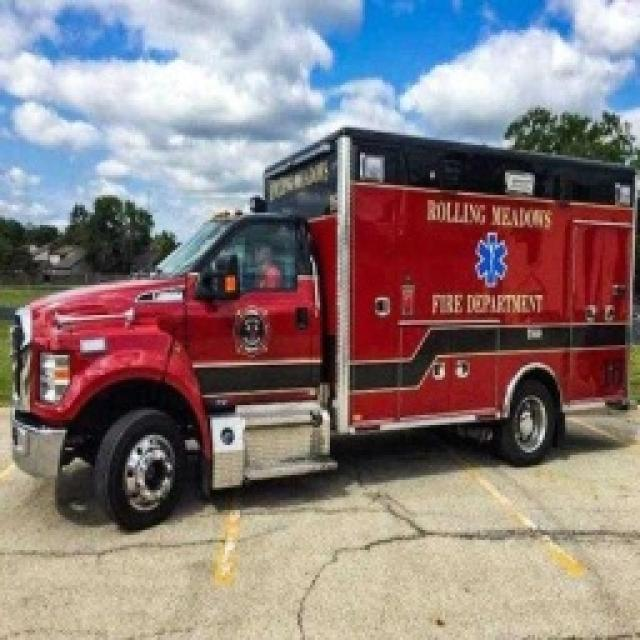ambulance: (10, 0, 638, 520)
